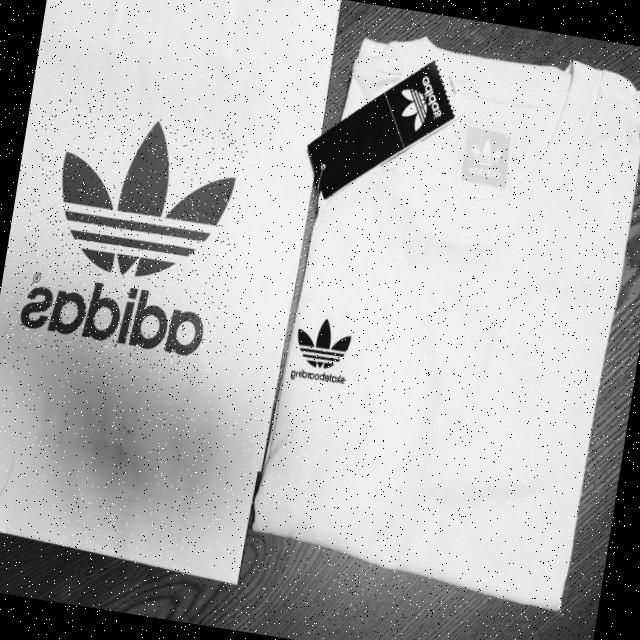Adidas: (8, 96, 255, 380)
